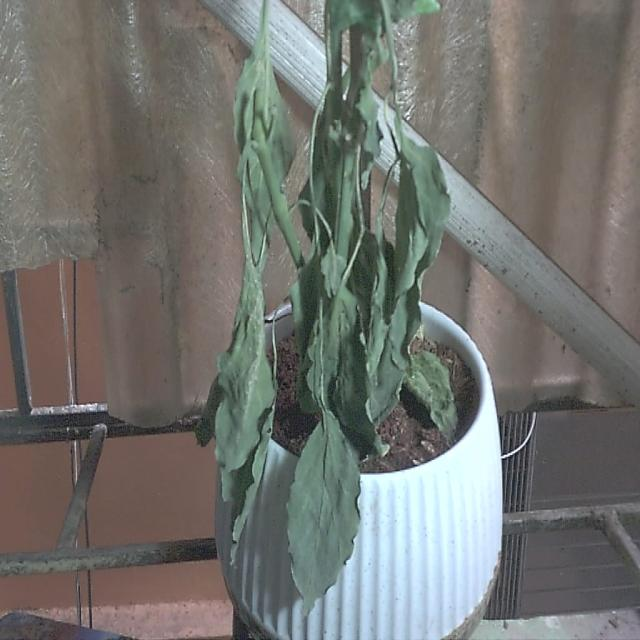Leaf: (214, 250, 276, 560), (284, 406, 364, 602), (389, 126, 449, 374)
